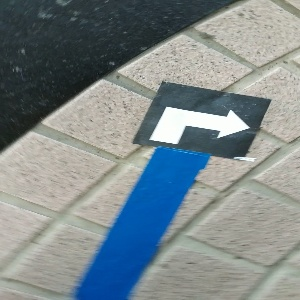right: (133, 80, 273, 160)
